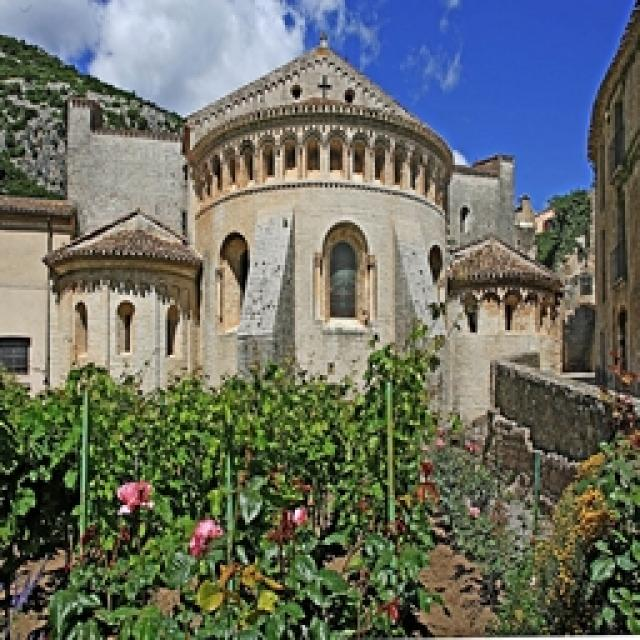Abbey: (163, 64, 473, 379)
